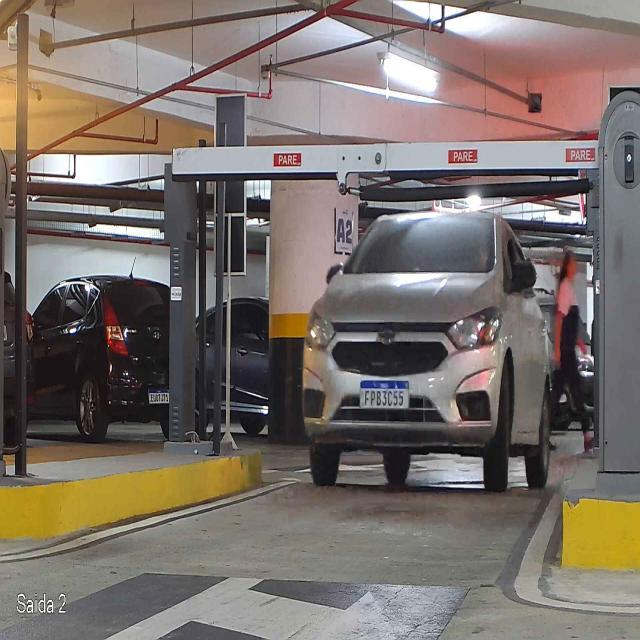mercosul_plate: (359, 378, 411, 410)
